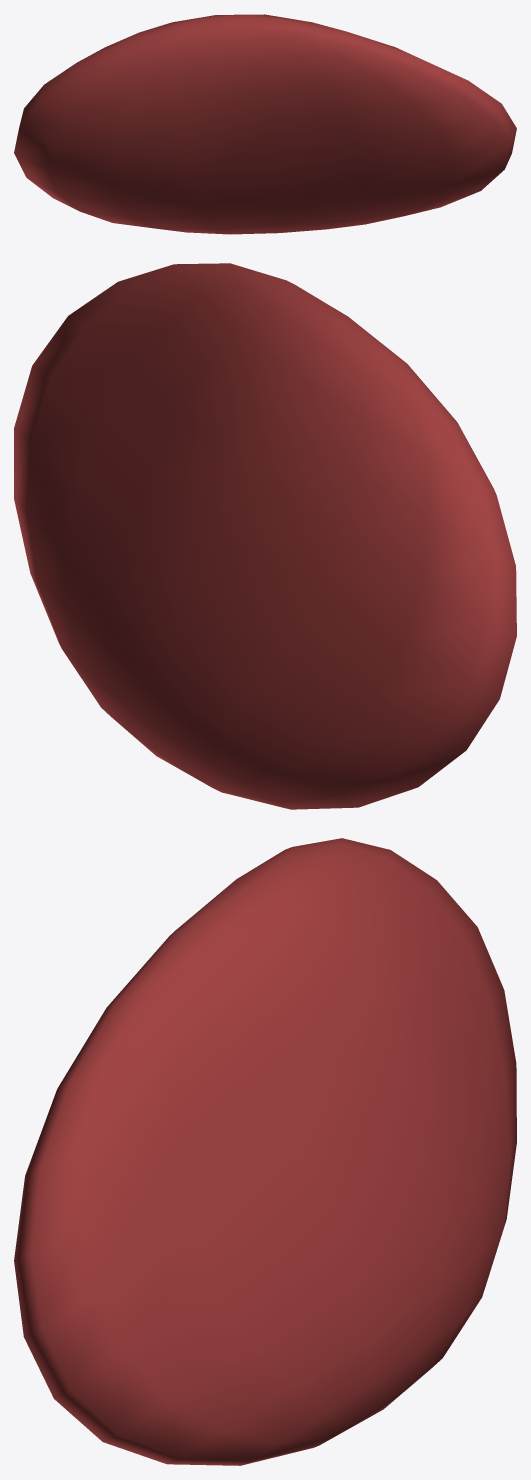
The model's file is subtendinous-bursa-of-obturator-internus-l.glb.
3 views of the same model, one above another, from view 1: azimuth 30°, elevation 25°; view 2: azimuth 150°, elevation 25°; view 3: azimuth 270°, elevation 25° (orthographic). The views are drawn at different scales.
Parts seen in each view (by area): view 1: Subtendinous bursa of obturator internus.l; view 2: Subtendinous bursa of obturator internus.l; view 3: Subtendinous bursa of obturator internus.l.
Part boxes in pixels (bbox=[...]): Subtendinous bursa of obturator internus.l: bbox=[14, 14, 516, 234]; Subtendinous bursa of obturator internus.l: bbox=[14, 263, 516, 809]; Subtendinous bursa of obturator internus.l: bbox=[14, 838, 516, 1465].
Size of the model in its own units: 0.0132 by 0.00809 by 0.00775.
